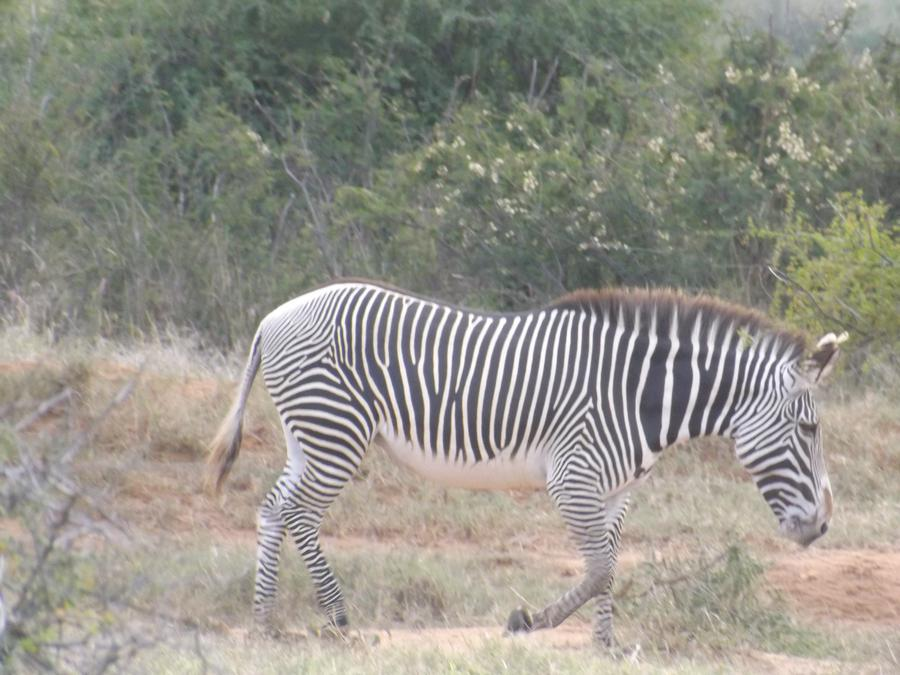zebra_grevys: (251, 272, 620, 495)
